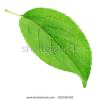Apple leaf: (19, 6, 98, 90)
